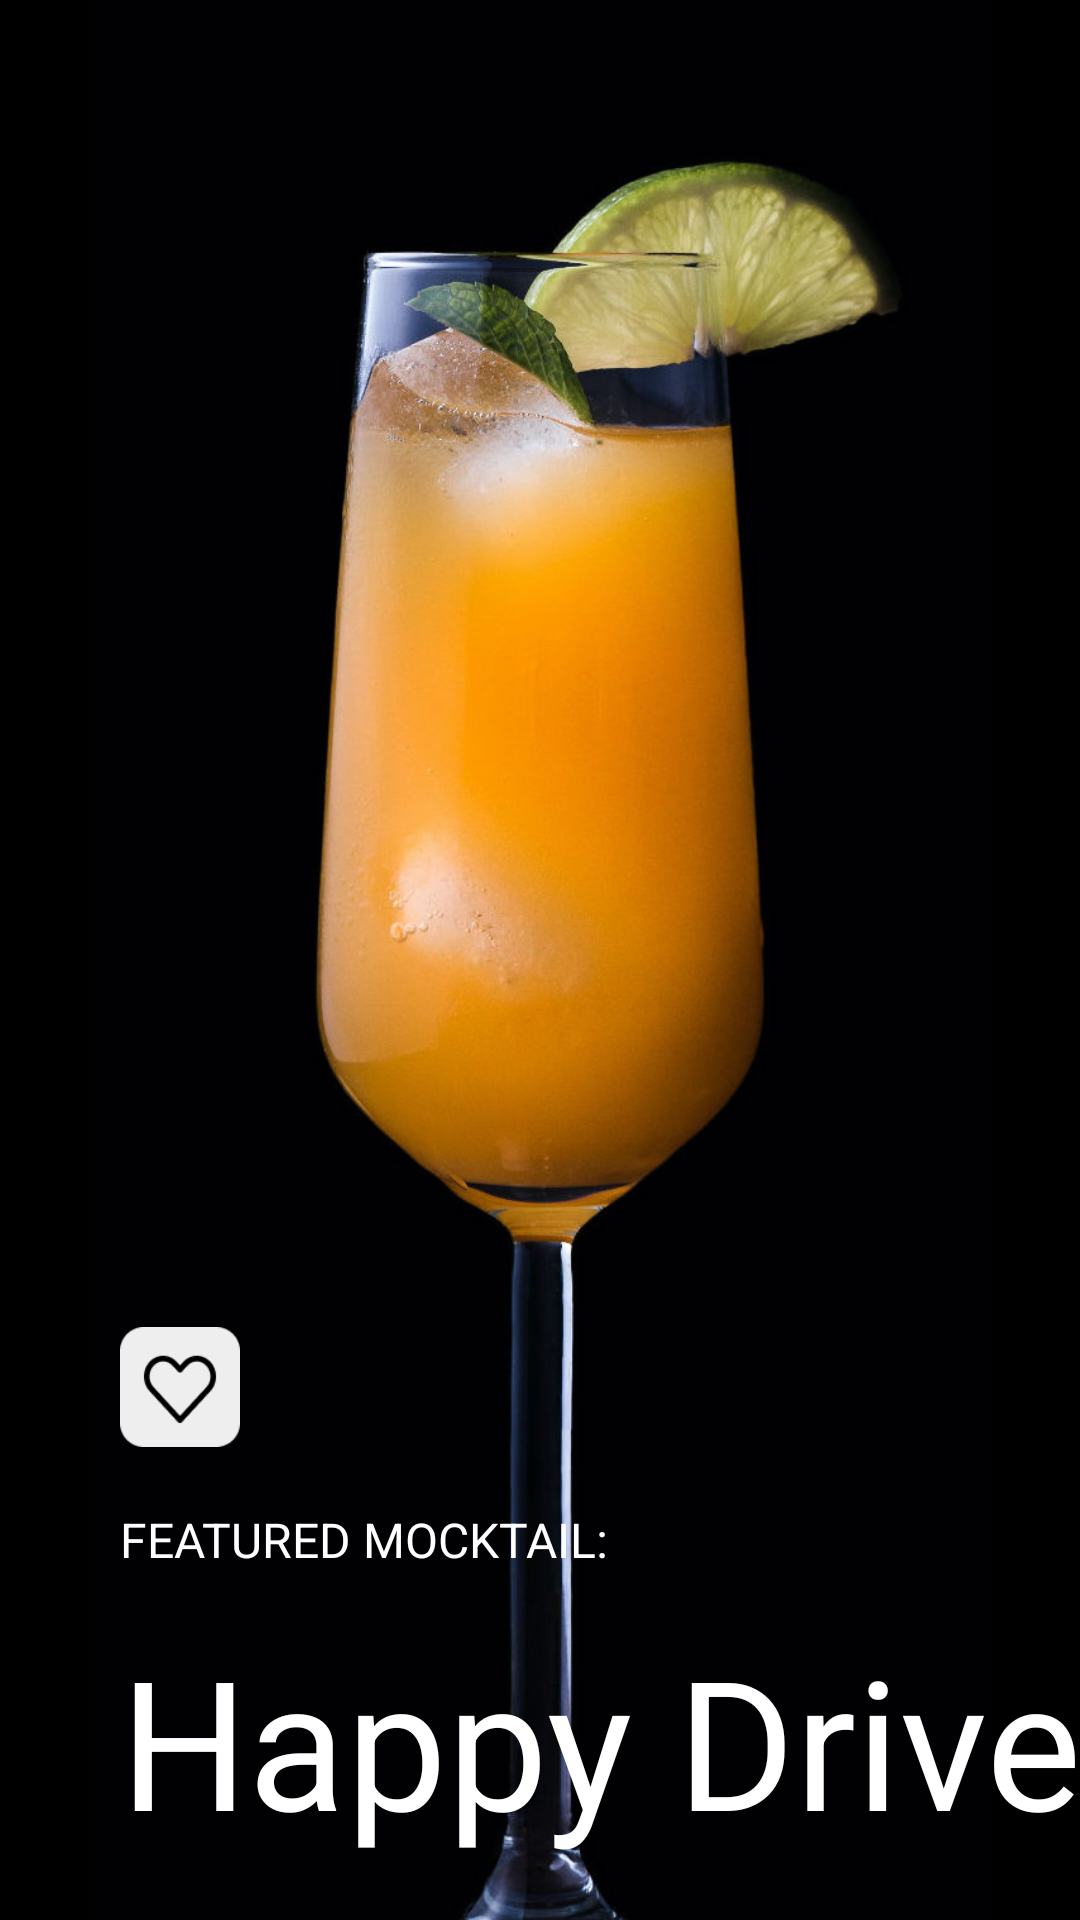

Icons on this 1080px×1920px Android screen, each with the point to tap as point (x, y):
heart base: point (180, 1387)
